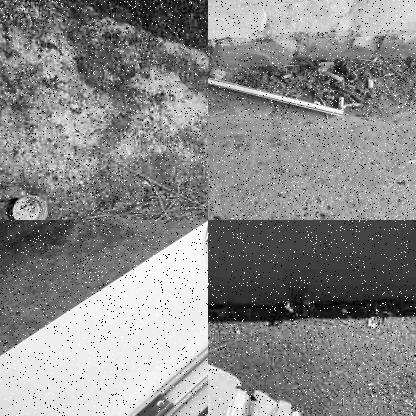plastic: (208, 71, 345, 123), (208, 360, 306, 415), (12, 194, 50, 219)
